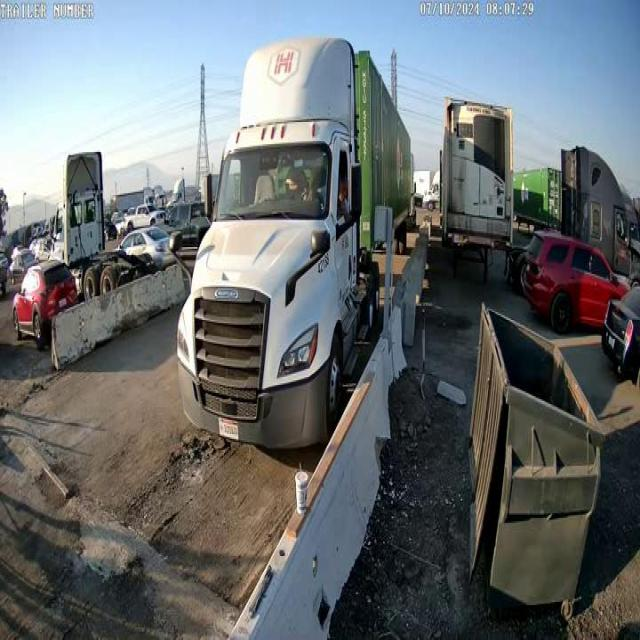CONTAINER: (334, 36, 416, 250)
